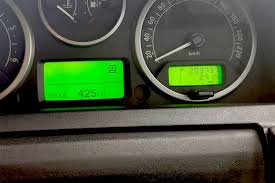Digital_Meter: (166, 66, 226, 85)
